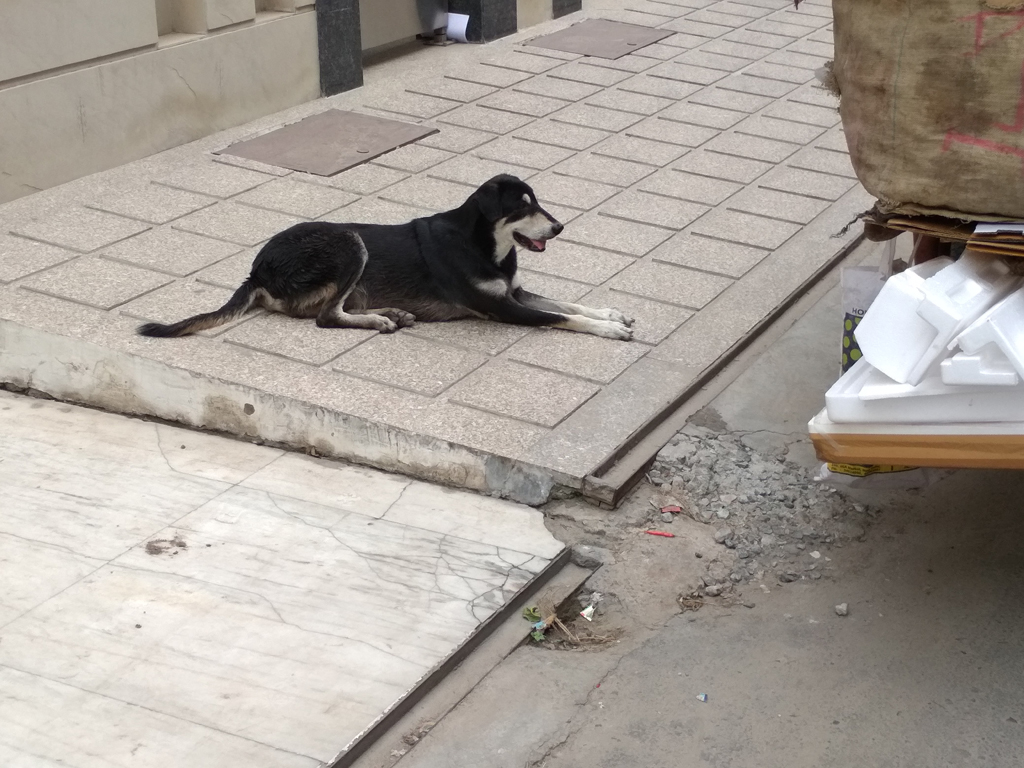dog: (133, 174, 636, 339)
